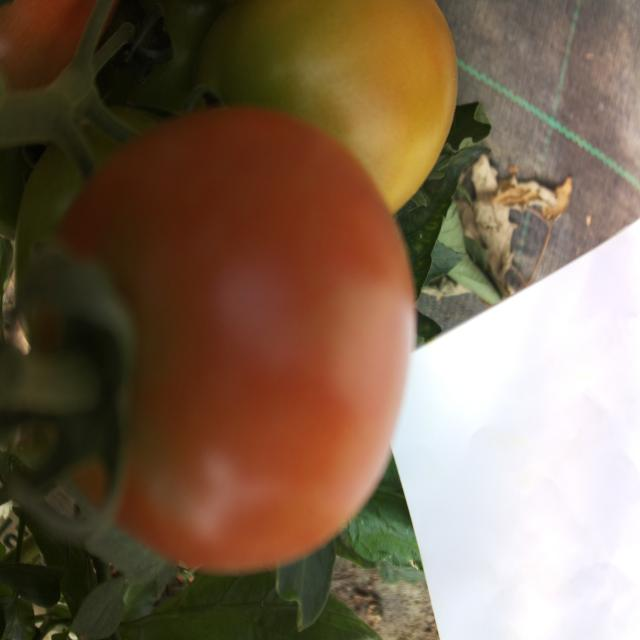kirmizi: (35, 122, 415, 539)
